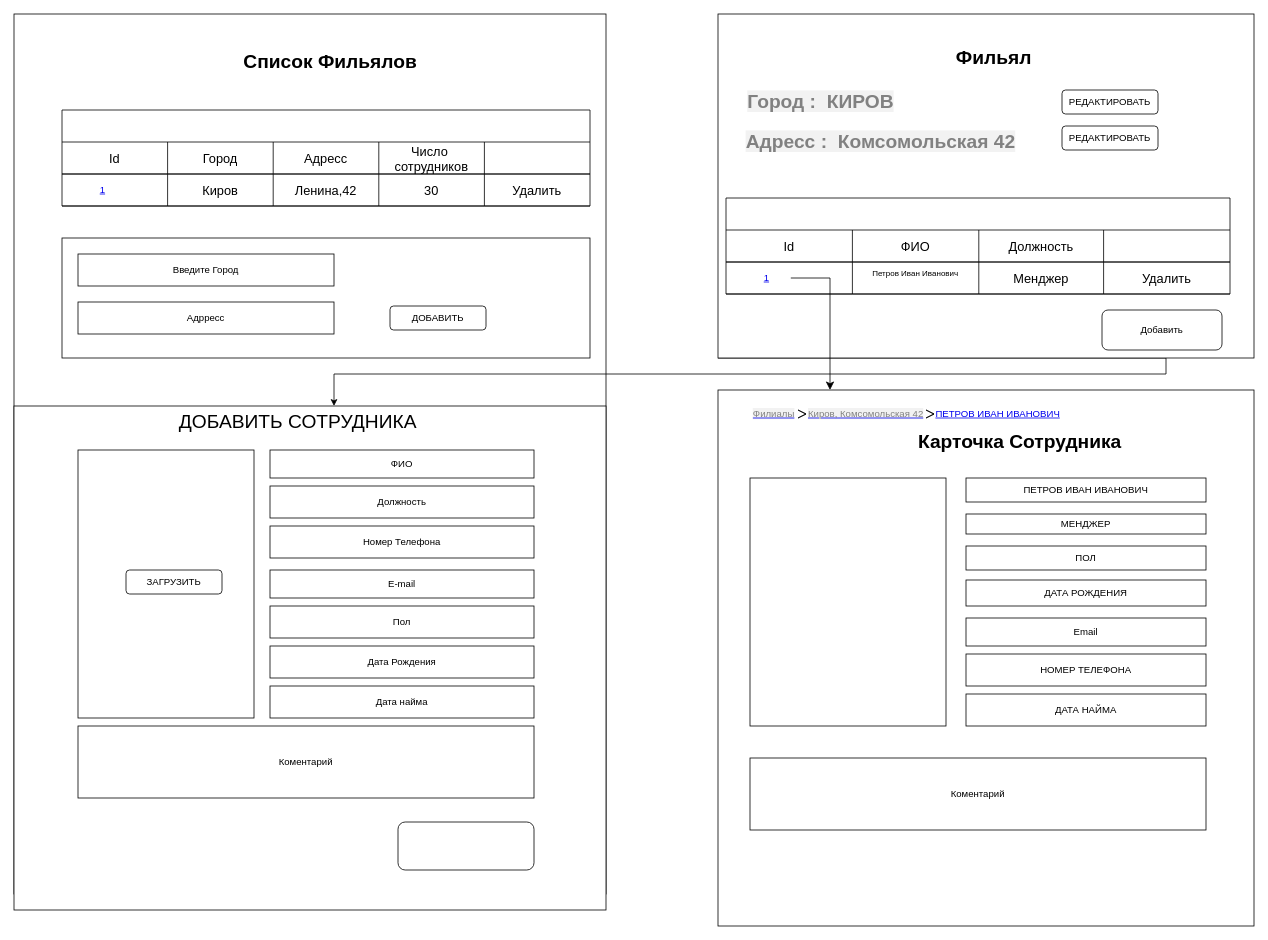
Image size: 1268x940. Some labels were removed from this diagram. Each missing label, with the box of its shape:
СОХРАНИТЬ: (397, 821, 534, 870)
список всех филиалов: (61, 109, 590, 206)
Список сотрудников: (725, 197, 1230, 294)
ФОТО: (749, 477, 946, 726)
